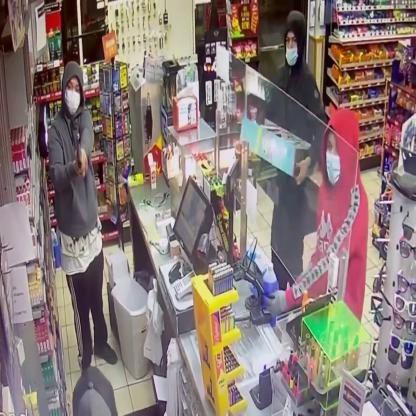Pistol: (72, 140, 90, 178)
